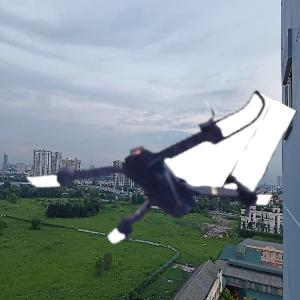drone: (35, 53, 273, 291)
